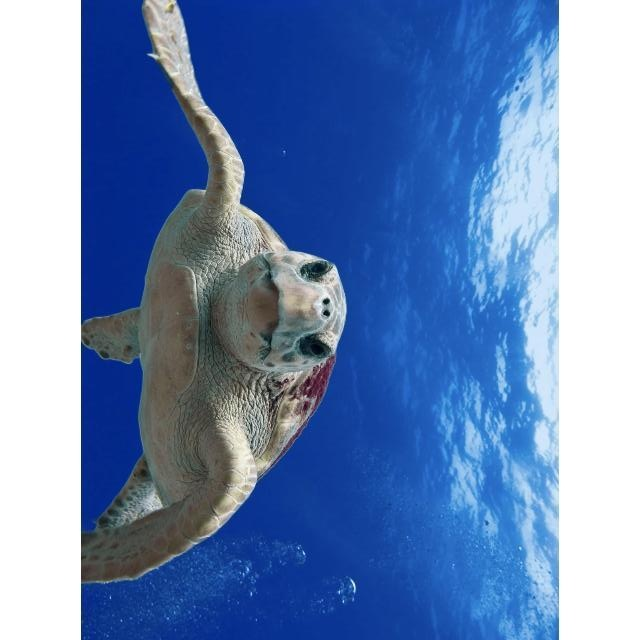turtle: (83, 2, 348, 583)
